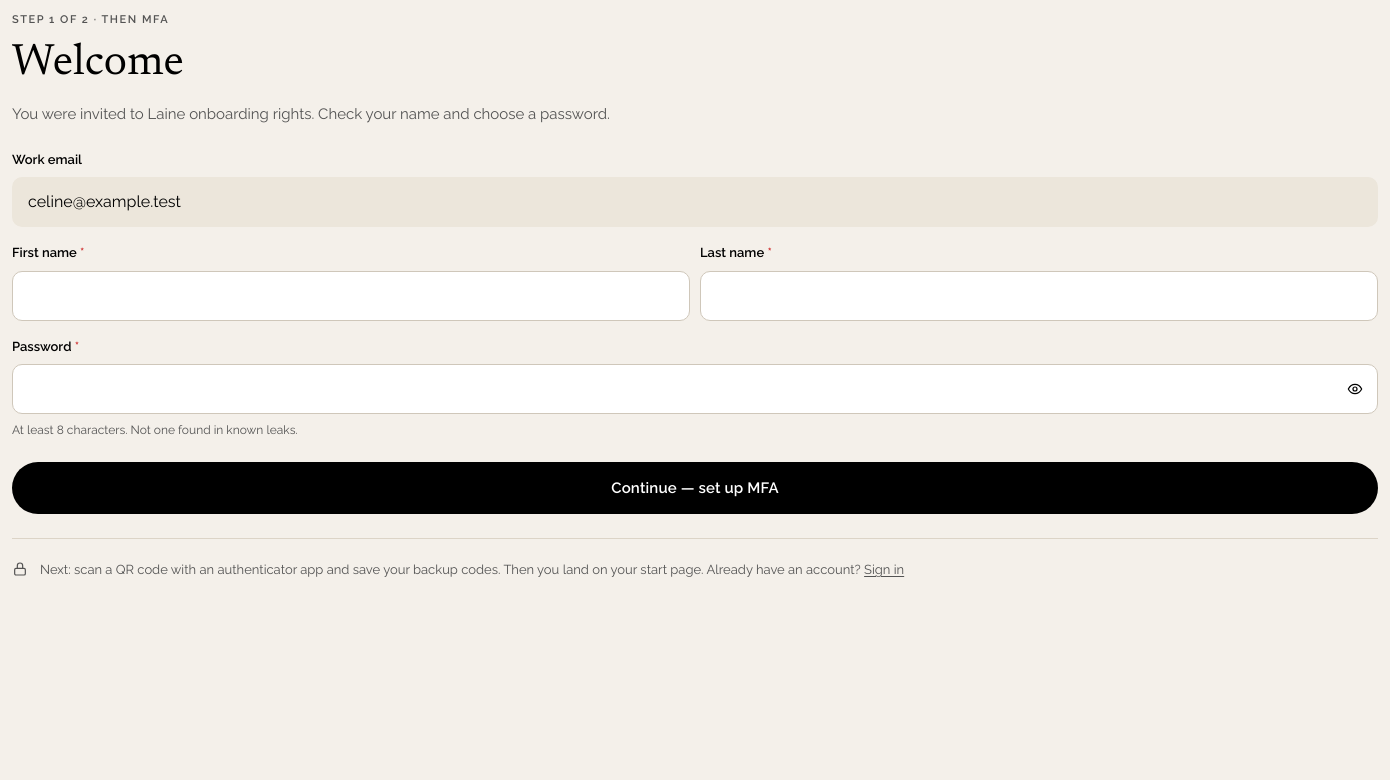
Test: AcceptInvitationForm (F18c-2) › a leaked password is refused in words
Type "Celine" into the field labelled "First name *" at (351, 296), box left=13, top=272, right=689, bottom=320
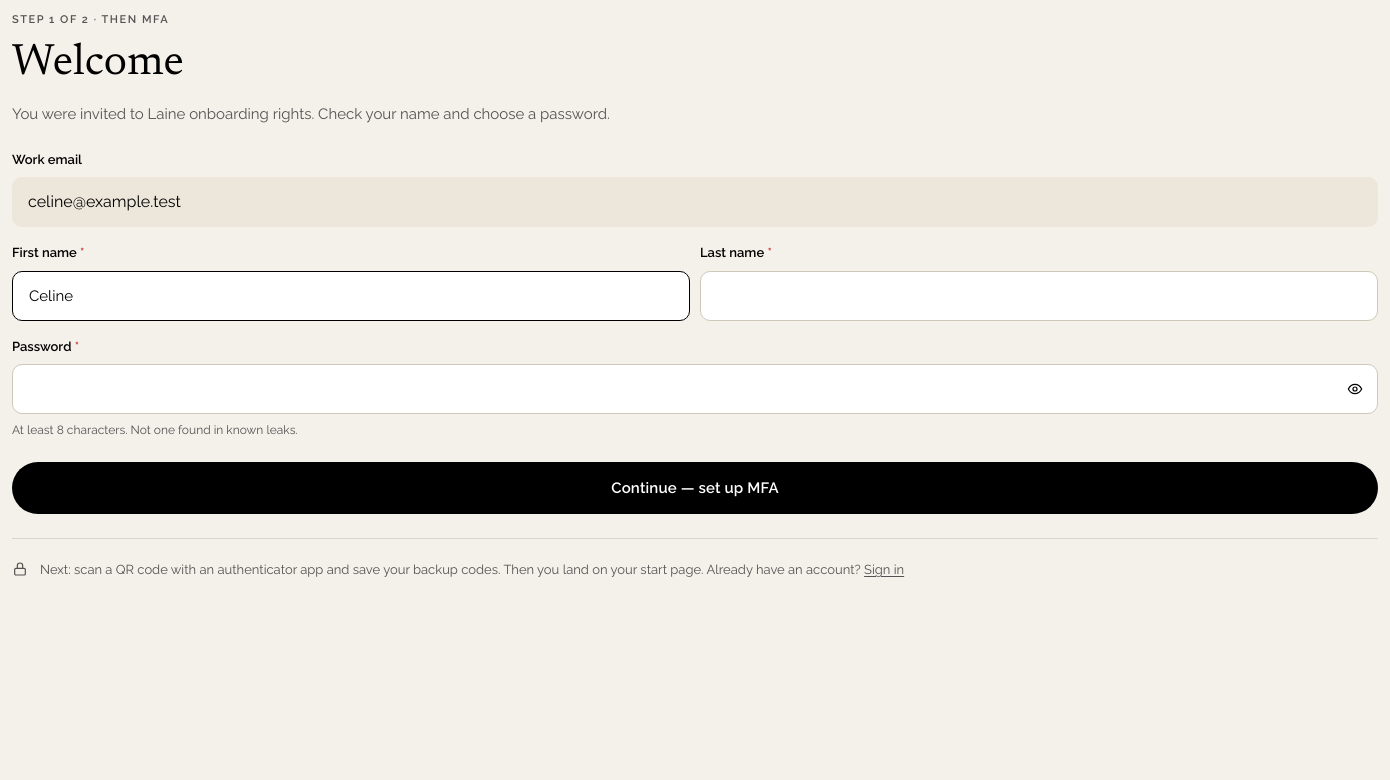
Type "Example" into the field labelled "Last name *" at (1039, 296), box left=701, top=272, right=1377, bottom=320
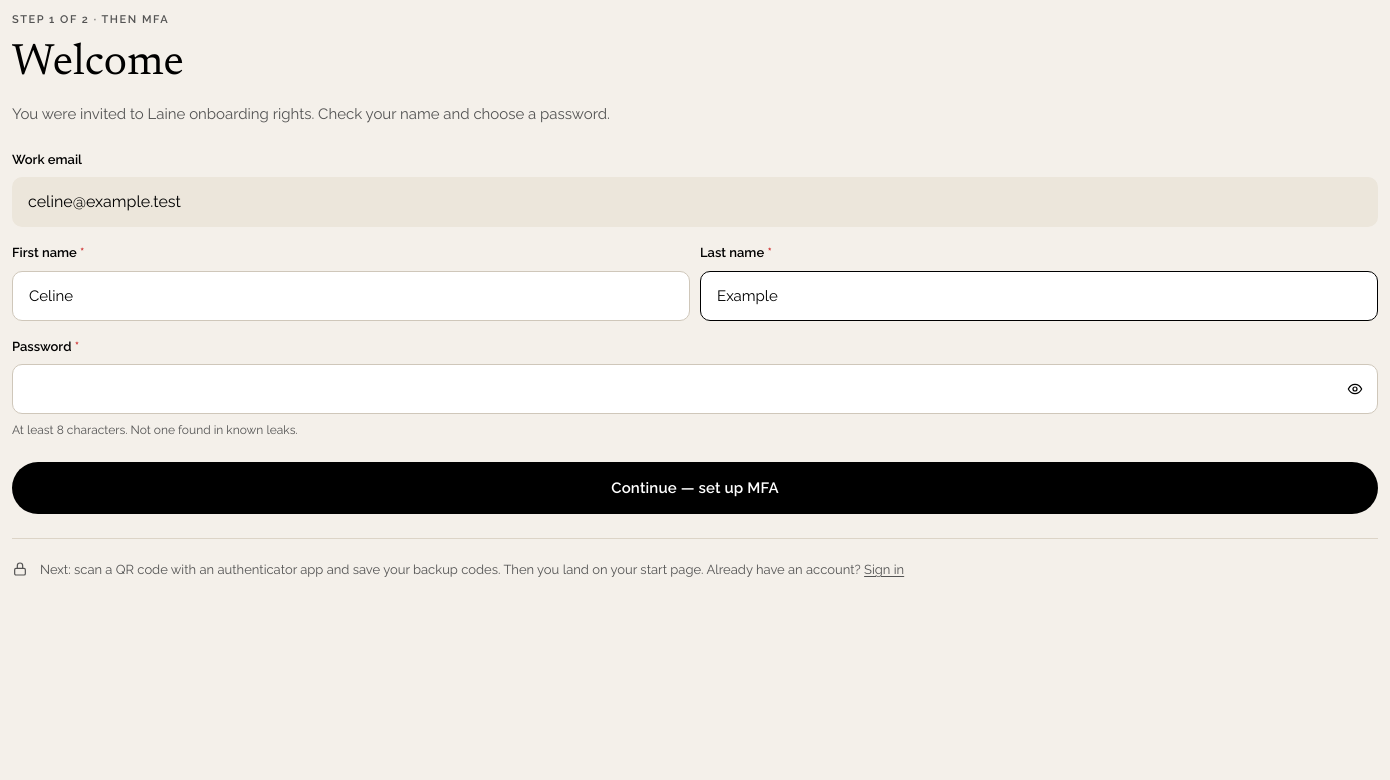
Type "password123" into the password field labelled "Password *" at (676, 389), box left=13, top=365, right=1339, bottom=413
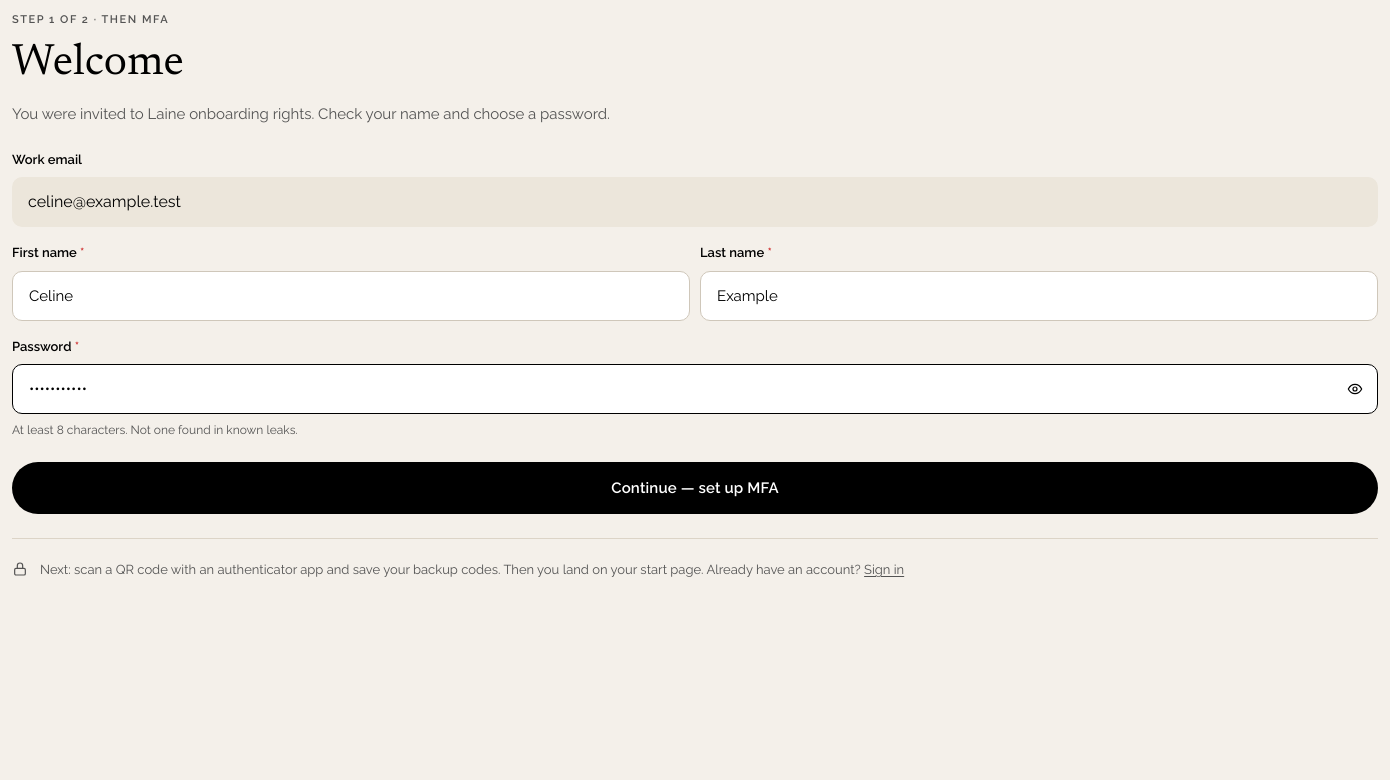
Click the button "Continue — set up MFA" at (695, 488), box left=12, top=462, right=1378, bottom=514
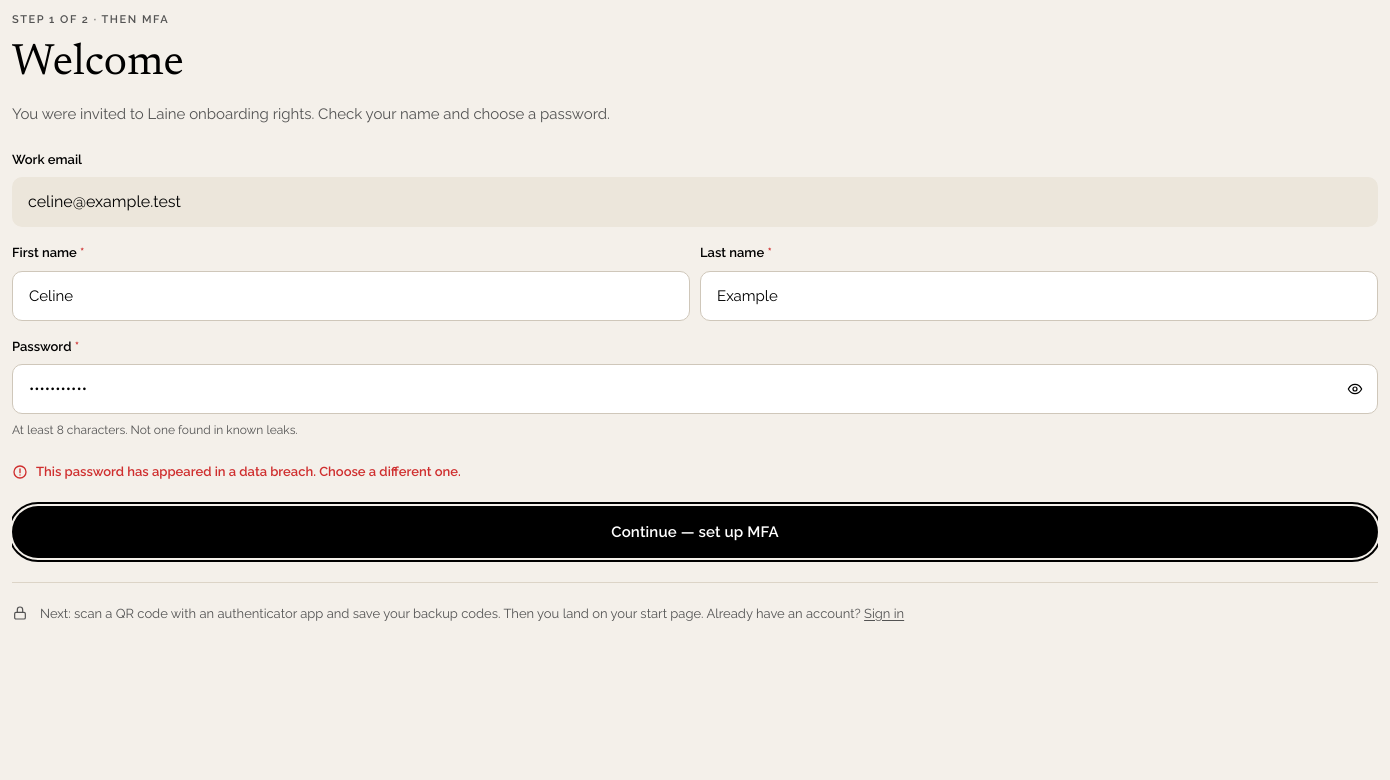
Expected: the text "appeared in a data breach" is shown, left=36, top=464, right=461, bottom=479
